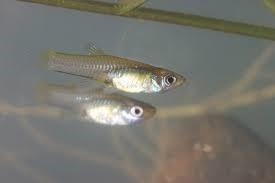Mosquito Fish: (36, 40, 187, 94), (30, 77, 159, 127)
